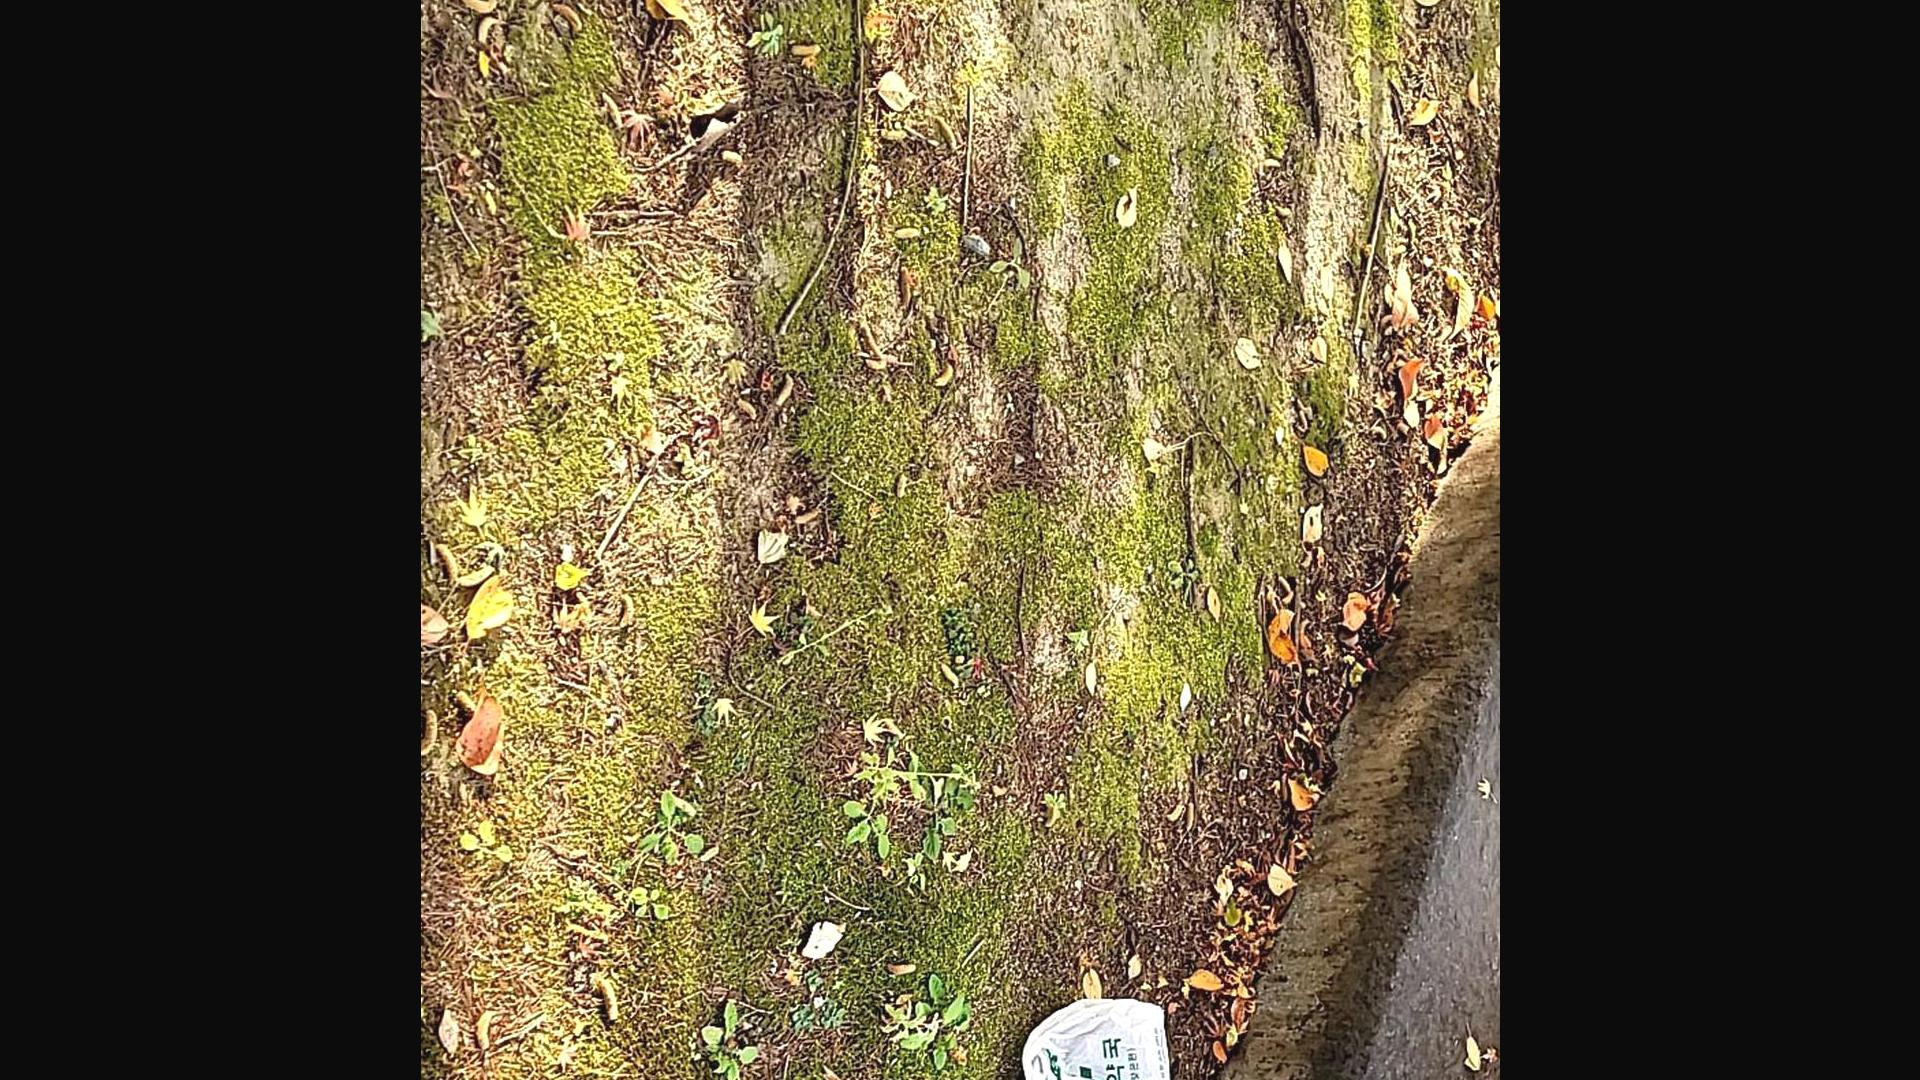white_bag: (1004, 989, 1178, 1080)
